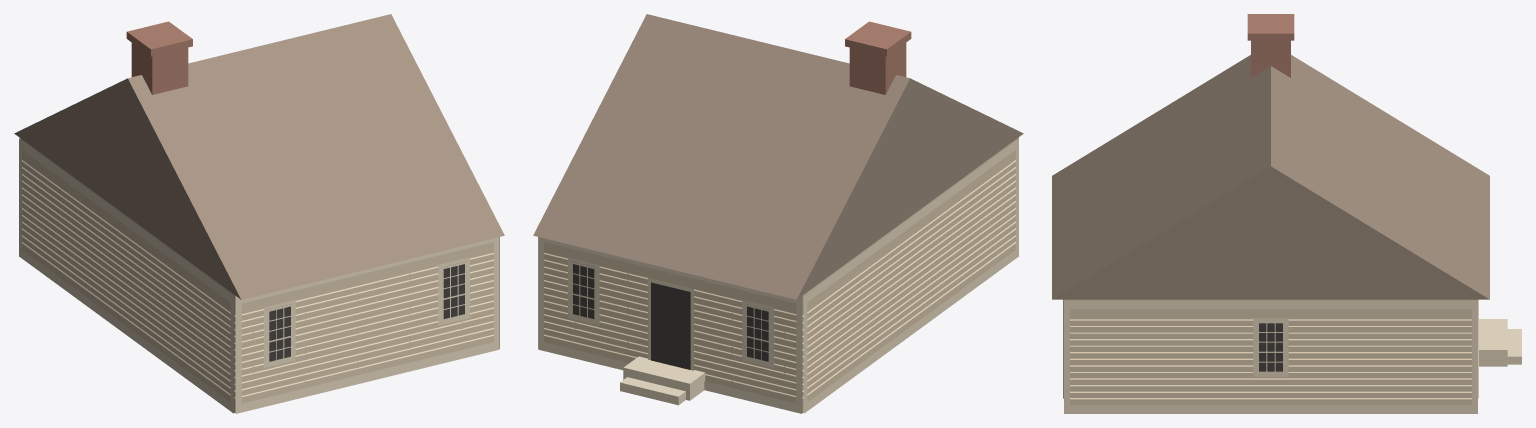
The model's file is recon_1835_blk_school_section_tier_94_d4_03__inferred_1835.glb.
3 renders of one model, left to right at view 1: azimuth 30°, elevation 25°; view 2: azimuth 150°, elevation 25°; view 3: azimuth 270°, elevation 25°, orthographic. The views are drawn at different scales.
Visible parts, largest first — view 1: recon_1835_blk_school_section_tier_94_d4_03__inferred_1835; view 2: recon_1835_blk_school_section_tier_94_d4_03__inferred_1835; view 3: recon_1835_blk_school_section_tier_94_d4_03__inferred_1835.
Boxes of the visible parts, x1,y1,x2,y2 form: recon_1835_blk_school_section_tier_94_d4_03__inferred_1835: (14,14,504,413); recon_1835_blk_school_section_tier_94_d4_03__inferred_1835: (533,14,1023,413); recon_1835_blk_school_section_tier_94_d4_03__inferred_1835: (1052,14,1521,413).
Bounding box in the file's own units: 6.23 × 6.49 × 9.85.
